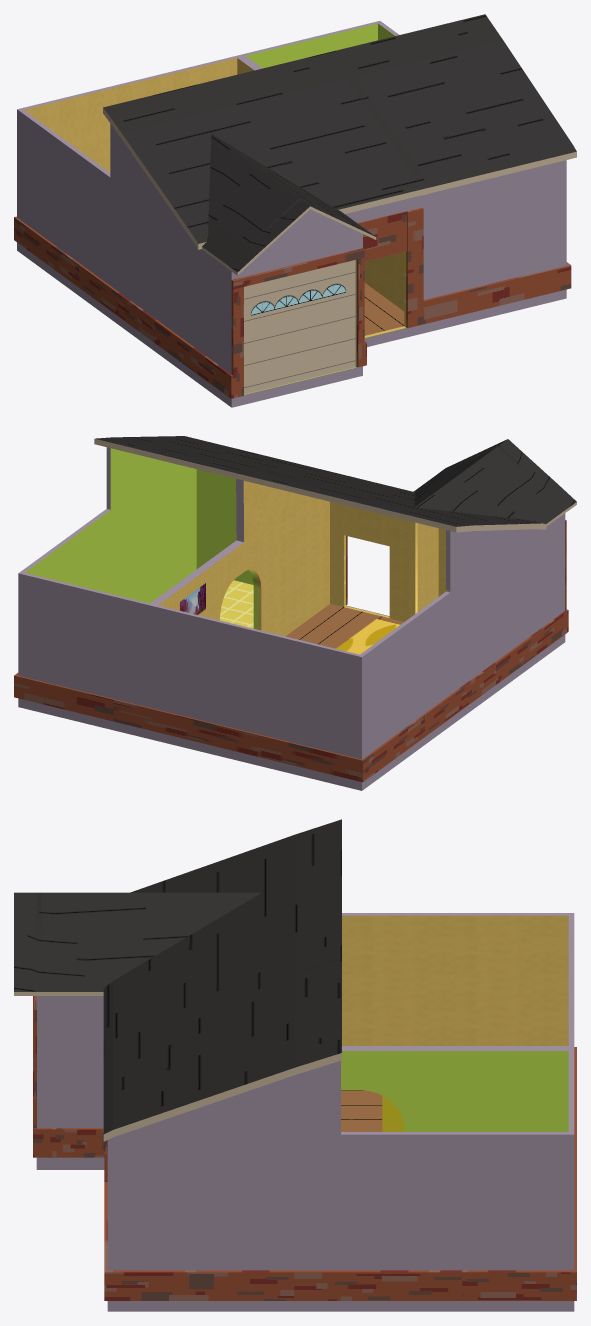
The model's file is Casa.obj.
3 views of the same model, one above another, from view 1: azimuth 30°, elevation 25°; view 2: azimuth 150°, elevation 25°; view 3: azimuth 270°, elevation 25° (orthographic). The views are drawn at different scales.
Parts seen in each view (by area): view 1: Casa:Fachada1, Ladrillos; view 2: Casa:Fachada1, Ladrillos; view 3: Casa:Fachada1, Ladrillos.
Part boxes in pixels (<box>): Casa:Fachada1: <box>17,14,576,407</box>; Ladrillos: <box>14,207,571,398</box>; Casa:Fachada1: <box>18,436,576,790</box>; Ladrillos: <box>14,520,568,782</box>; Casa:Fachada1: <box>14,819,574,1311</box>; Ladrillos: <box>33,996,576,1300</box>.
Bounding box in the file's own units: 1621 × 862 × 1652.
Materials: 2 (2 with a texture image).
